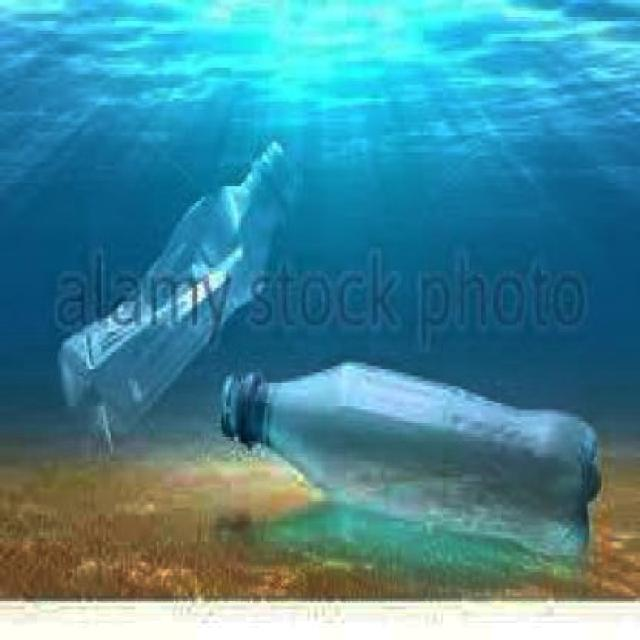pbottle: (219, 335, 604, 582), (41, 121, 299, 454)
